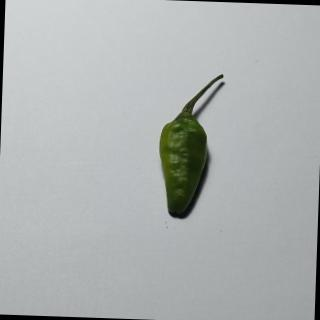Cabai Hijau: (151, 68, 229, 225)
